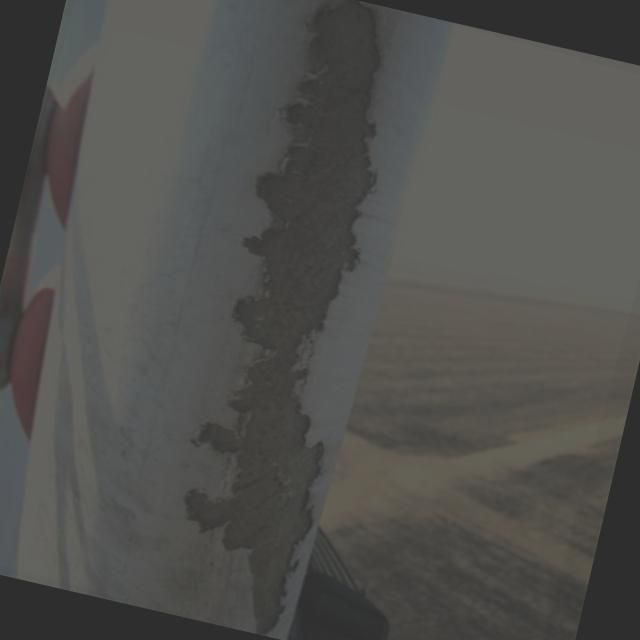corrosion: (229, 0, 409, 329), (172, 315, 349, 633)
